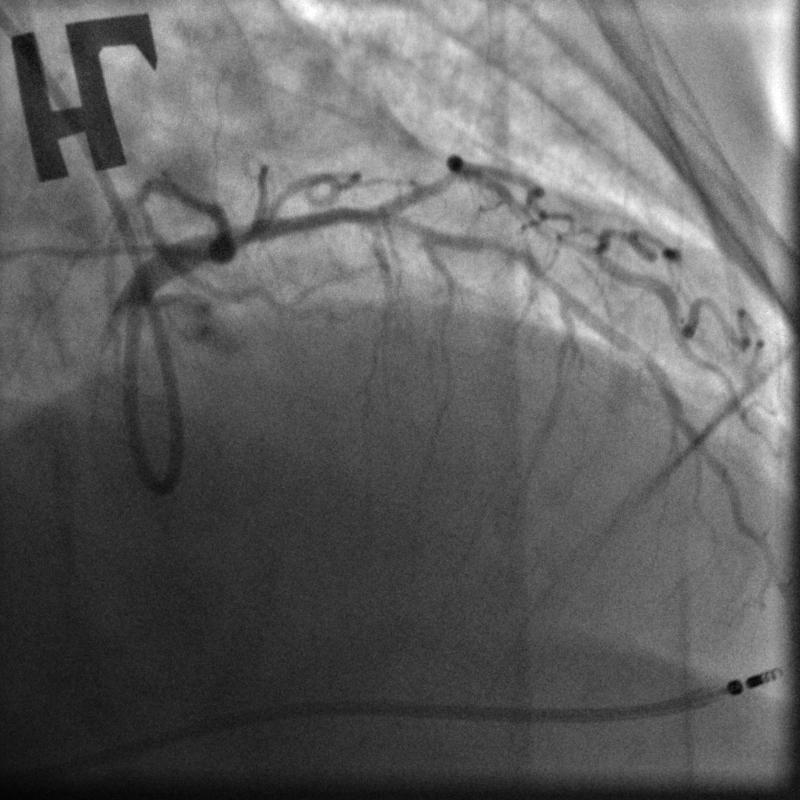Stenosis: (474, 228, 539, 271)
